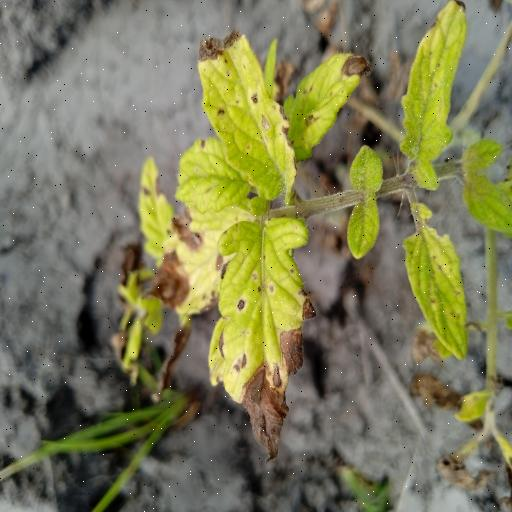Tomato_Brown_Spots: (208, 216, 319, 466), (197, 26, 300, 208), (397, 0, 467, 175), (403, 196, 472, 364), (285, 44, 371, 164)
